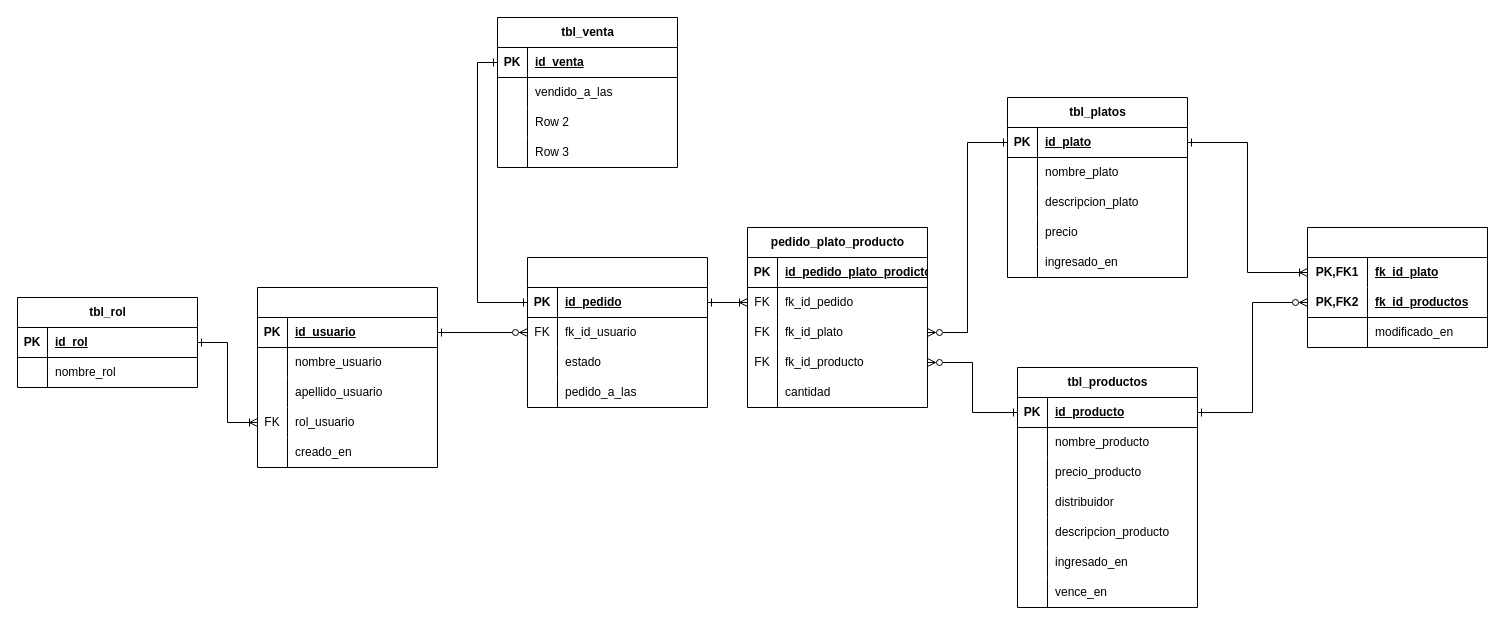
The diagram is 1505 pixels wide and 625 high, and some of its shapes have lost their labels. Each missing label, with the box of its shape:
tbl_pedidos: (526, 256, 708, 408)
tbl_platos_productos: (1306, 226, 1488, 348)
tbl_usuarios: (256, 286, 438, 468)
